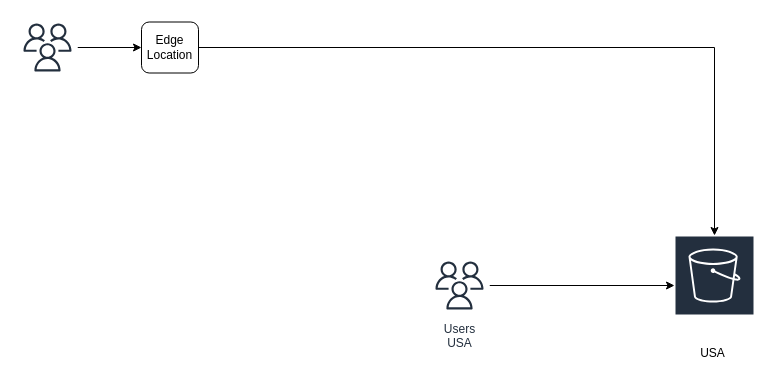
Some shapes in this 772 by 380 pixel diagram are drawn without their labels. The shapes that lost their labels are listed below. From the top down, each one's centre as x and y in pixels, then its label:
At (47,47): "Users India".
At (714,285): "Amazon S3".
